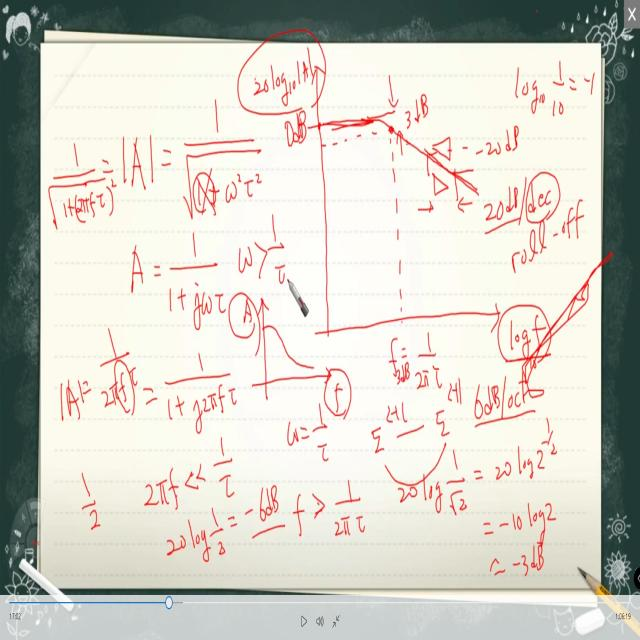panseo: (44, 30, 610, 586)
